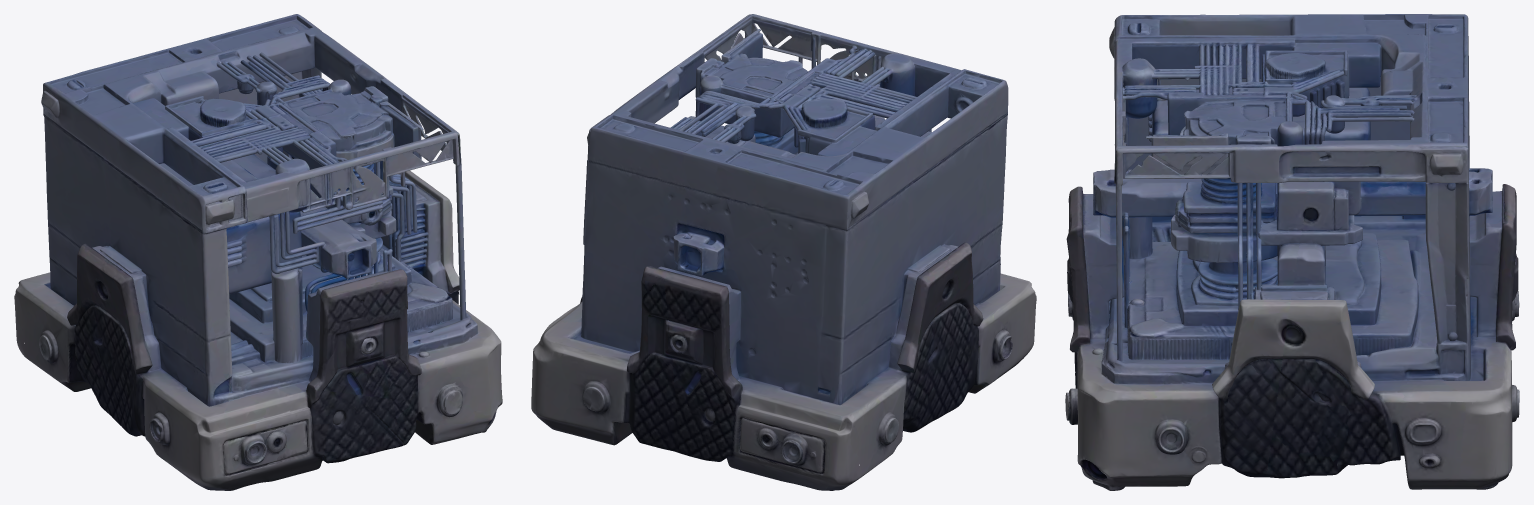
Rendered from data-cube.glb.
The picture shows the model from 3 angles, left to right: view 1: azimuth 30°, elevation 25°; view 2: azimuth 150°, elevation 25°; view 3: azimuth 270°, elevation 25°; orthographic projection. The views are drawn at different scales.
Visible parts, largest first — view 1: tripo_node_9be01adb-ab73-4f69-9311-30227b095f65; view 2: tripo_node_9be01adb-ab73-4f69-9311-30227b095f65; view 3: tripo_node_9be01adb-ab73-4f69-9311-30227b095f65.
Part boxes in pixels (x1,y1,x2,y2): tripo_node_9be01adb-ab73-4f69-9311-30227b095f65: [14, 14, 502, 490]; tripo_node_9be01adb-ab73-4f69-9311-30227b095f65: [531, 14, 1036, 490]; tripo_node_9be01adb-ab73-4f69-9311-30227b095f65: [1065, 14, 1519, 490].
Size of the model in its own units: 0.909 by 0.7835 by 0.976.
1 material, 1 textured.
